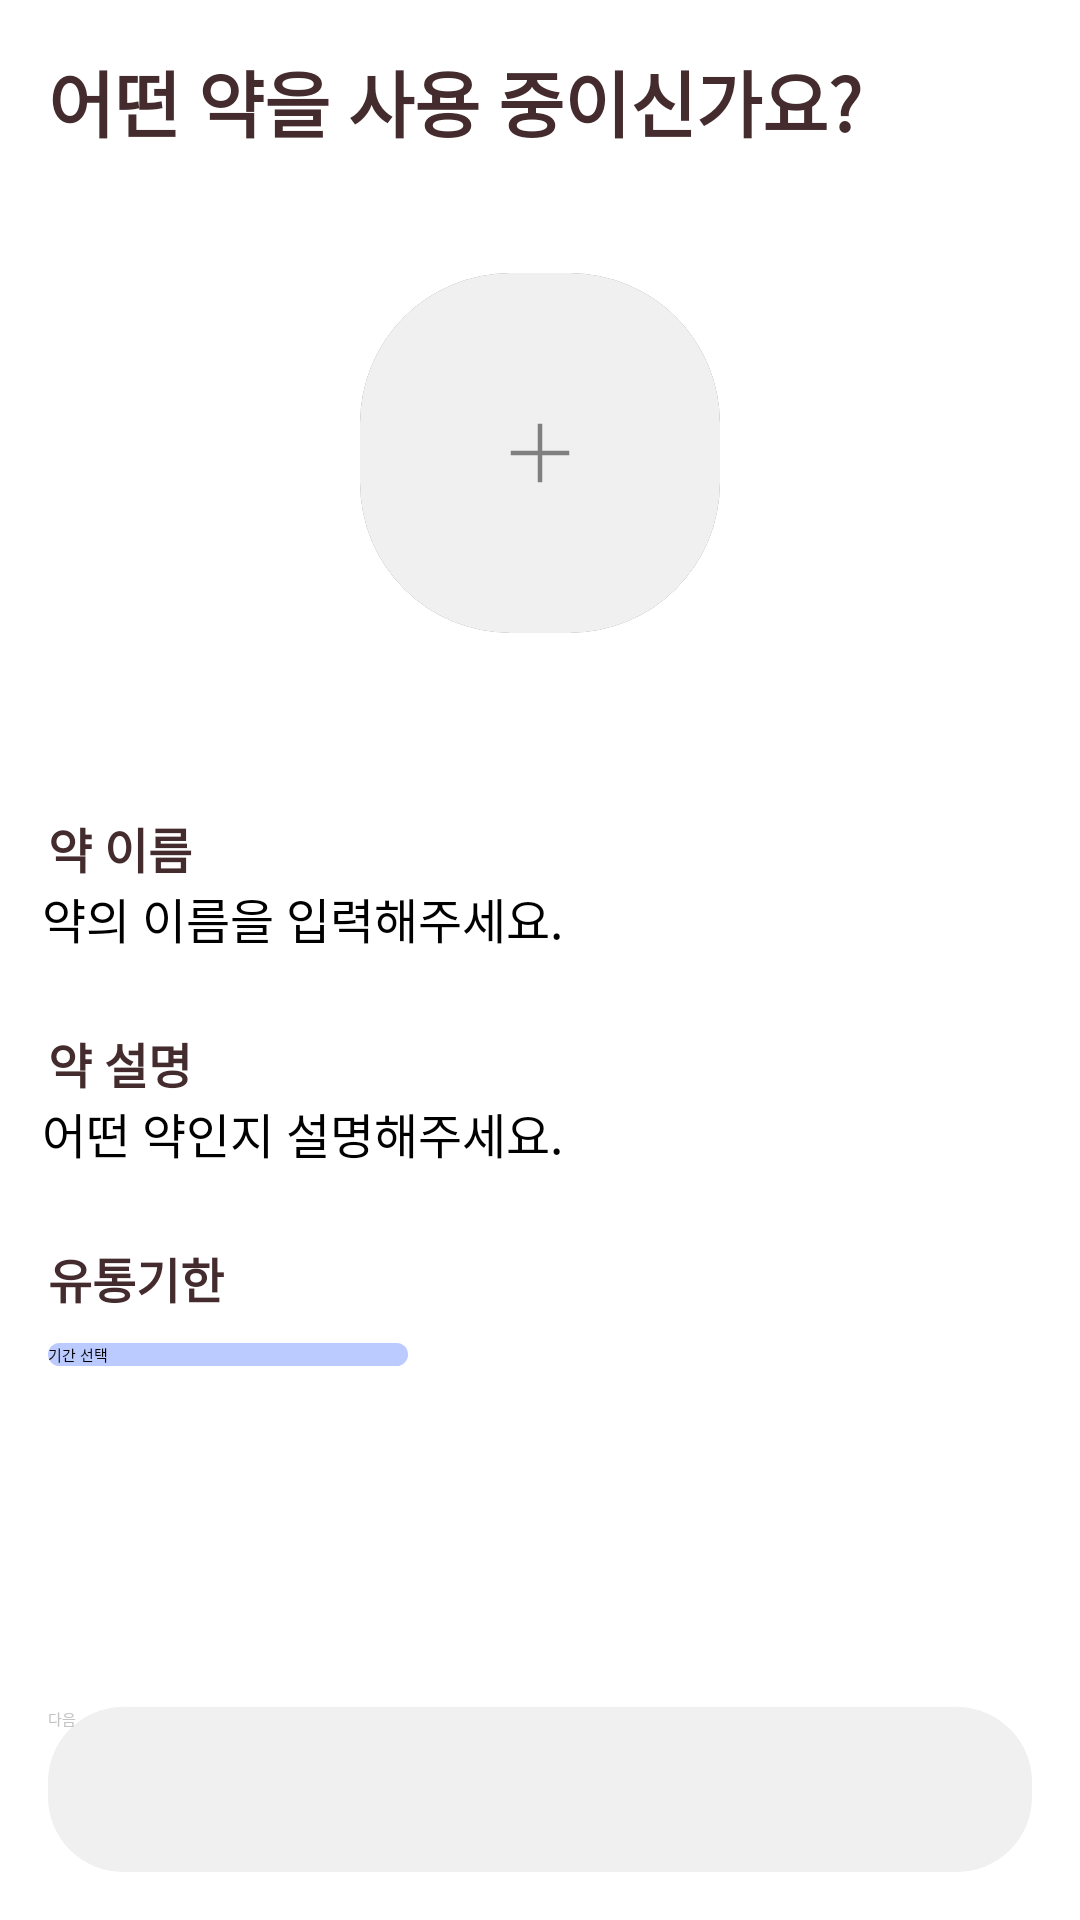

Screen size 1080 × 1920. Icon name, then its box in pixels as (left=x1, top=y1, right=x2, bottom=y2):
plus: (left=360, top=273, right=720, bottom=633)
